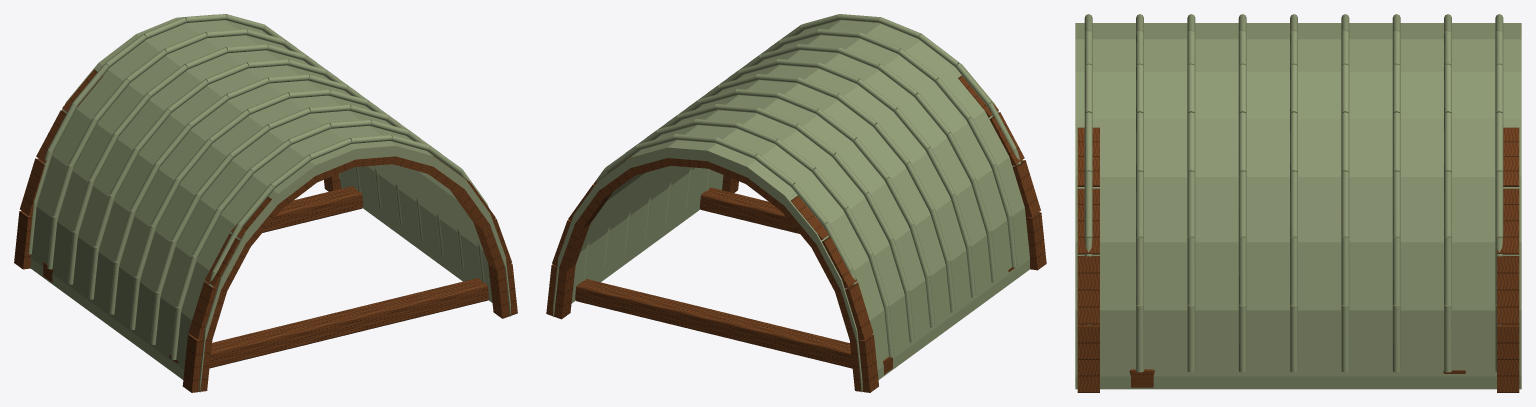
The model's file is prehistoric-survivor-settlement-thatch-barrel-roof-159baef1__23173.glb.
3 views of the same model, side by side, from view 1: azimuth 30°, elevation 25°; view 2: azimuth 150°, elevation 25°; view 3: azimuth 270°, elevation 25° (orthographic). The views are drawn at different scales.
Visible parts, largest first — view 1: thatch-barrel-roof; view 2: thatch-barrel-roof; view 3: thatch-barrel-roof.
Boxes of the visible parts, left/top/right/bottom form: thatch-barrel-roof: left=14, top=14, right=517, bottom=392; thatch-barrel-roof: left=546, top=14, right=1046, bottom=392; thatch-barrel-roof: left=1075, top=14, right=1521, bottom=392.
Bounding box in the file's own units: 2.1 × 1.31 × 2.
2 materials, 1 textured.
